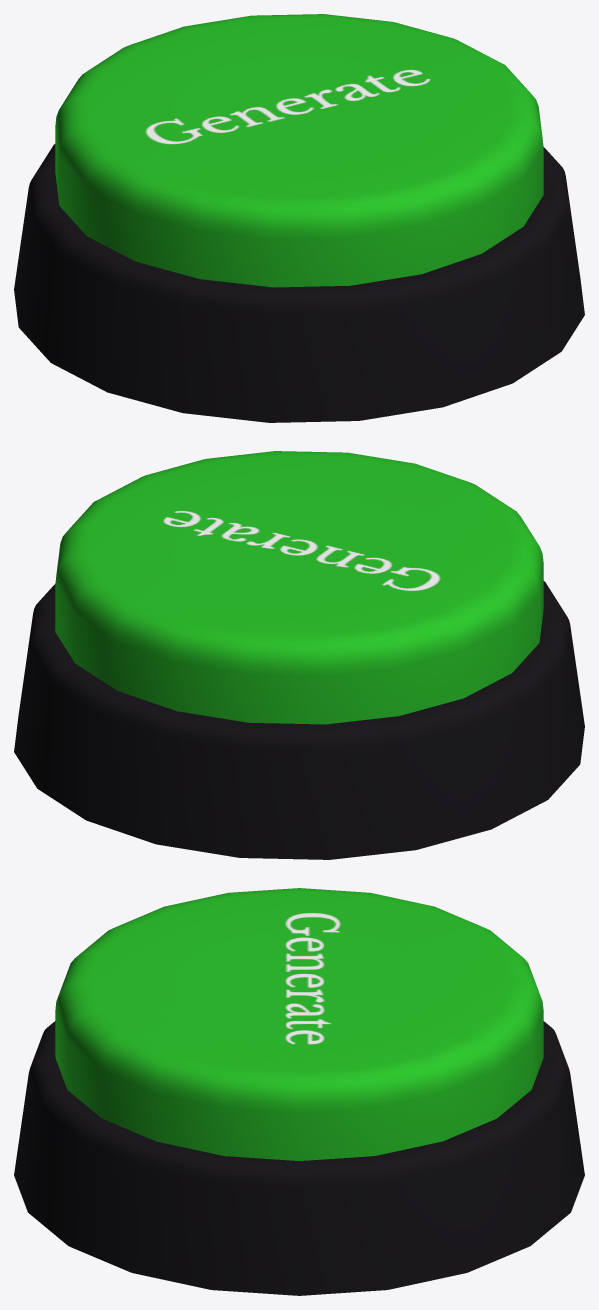
File: buttonGreen.glb
3 renders of one model, top to bottom at view 1: azimuth 30°, elevation 25°; view 2: azimuth 150°, elevation 25°; view 3: azimuth 270°, elevation 25°, orthographic.
Parts seen in each view (by area): view 1: buttonGreen; view 2: buttonGreen; view 3: buttonGreen.
Boxes of the visible parts, <box> form: buttonGreen: <box>14,14,584,422</box>; buttonGreen: <box>14,451,584,859</box>; buttonGreen: <box>14,888,584,1295</box>.
Bounding box in the file's own units: 0.4609 × 0.172 × 0.4609.
Materials: 1 (1 with a texture image).
